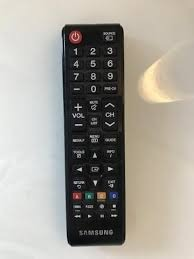remote control: (62, 24, 135, 245)
